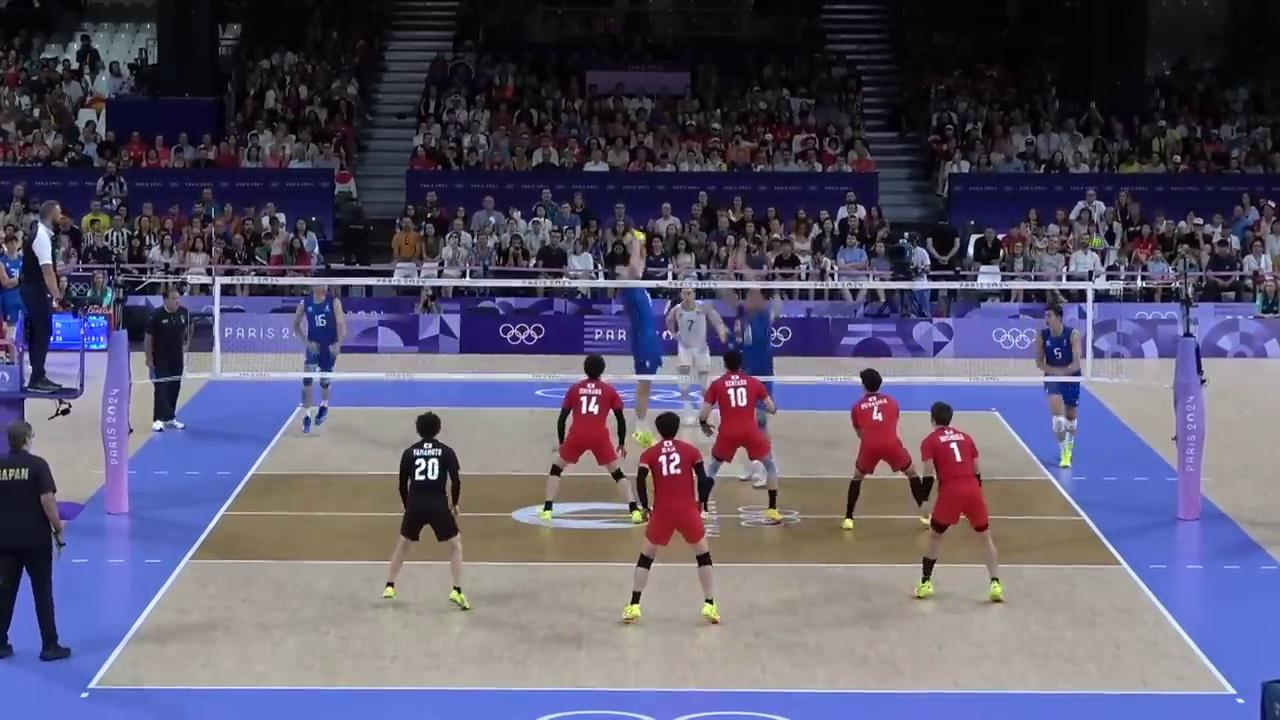ball: (627, 230, 646, 245)
